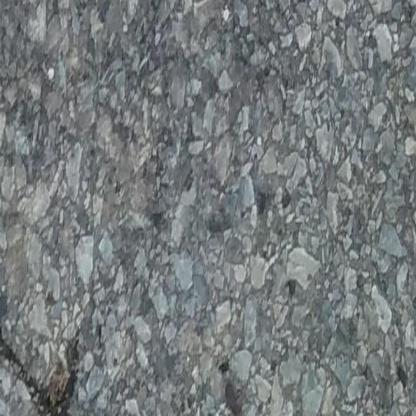Cracks: (0, 305, 114, 416)
